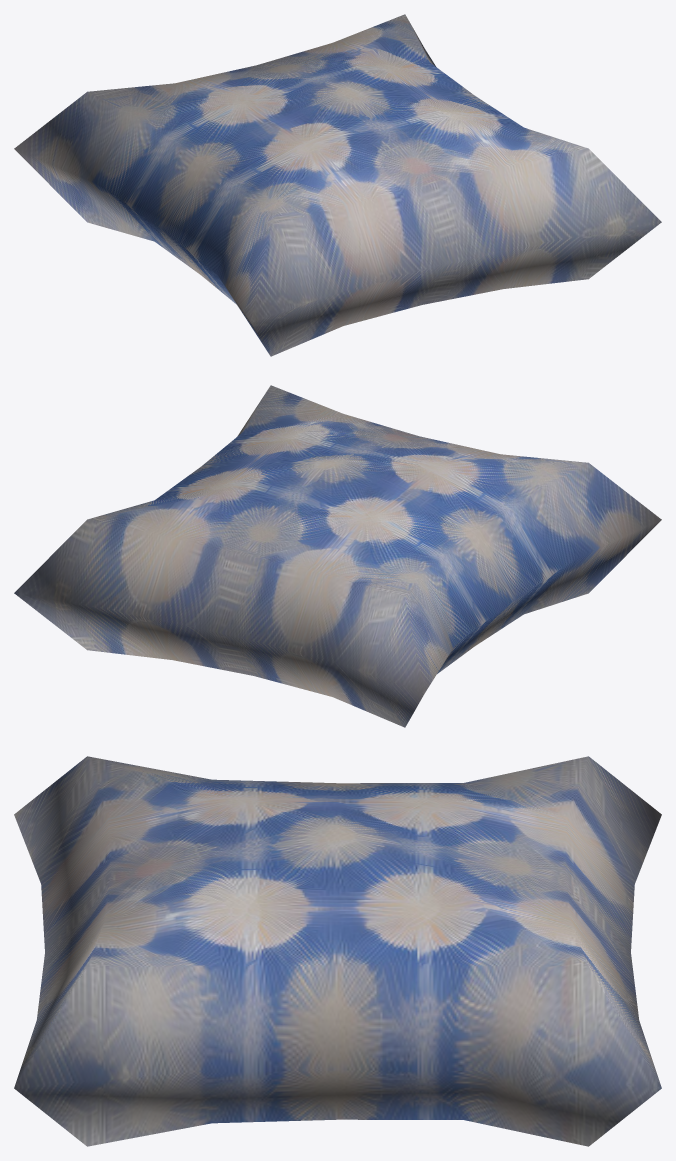
The model's file is pillow1.fbx.
3 views of the same model, one above another, from view 1: azimuth 30°, elevation 25°; view 2: azimuth 150°, elevation 25°; view 3: azimuth 270°, elevation 25° (orthographic). The views are drawn at different scales.
Parts seen in each view (by area): view 1: Cube; view 2: Cube; view 3: Cube.
Part boxes in pixels (x1=…): Cube: x1=14, y1=14, x2=661, y2=356; Cube: x1=14, y1=385, x2=661, y2=727; Cube: x1=14, y1=756, x2=661, y2=1146.
Bounding box in the file's own units: 766 × 310 × 766.
